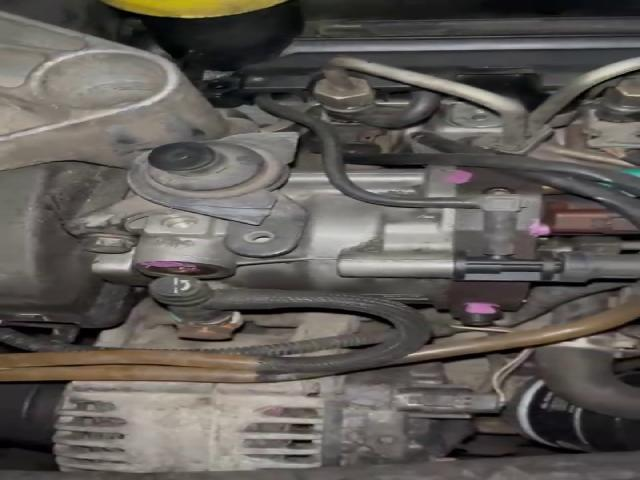alternator: (53, 377, 336, 472)
high_pressure_pump: (132, 166, 545, 317)
